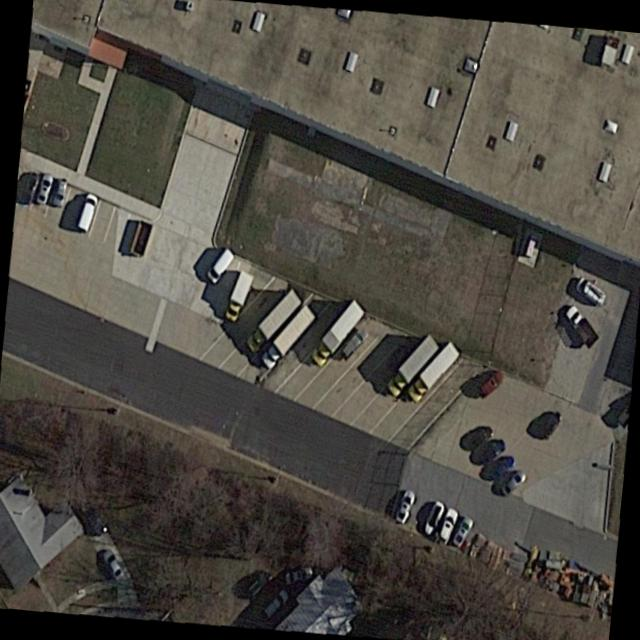large-vehicle: (261, 303, 317, 371), (311, 298, 364, 368), (247, 289, 300, 355), (406, 340, 458, 403), (386, 335, 438, 397), (223, 269, 254, 321)
small-vehicle: (560, 301, 599, 351), (469, 433, 508, 472), (480, 448, 518, 487), (458, 422, 493, 459), (204, 244, 234, 285), (420, 496, 446, 543), (573, 273, 607, 308), (494, 467, 527, 501), (393, 486, 418, 530), (435, 504, 460, 547), (75, 190, 99, 234), (338, 325, 368, 360), (475, 368, 505, 402), (450, 513, 476, 552), (102, 548, 125, 582), (245, 569, 271, 599), (20, 170, 41, 206), (262, 590, 287, 618), (34, 172, 53, 207), (540, 410, 562, 440), (52, 177, 68, 208), (284, 567, 311, 585)
